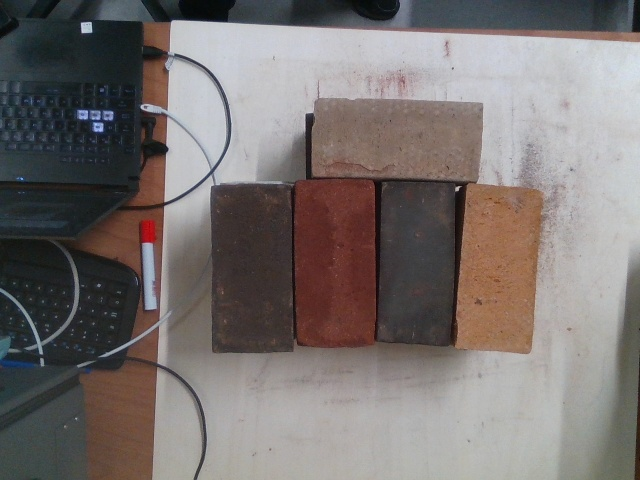brick: (454, 185, 545, 353), (211, 187, 292, 352), (314, 100, 482, 178), (297, 182, 375, 343), (379, 187, 453, 345)
